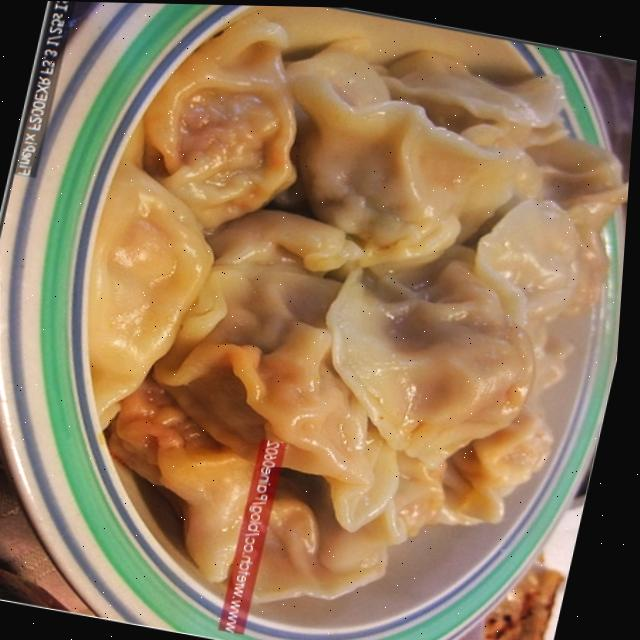带馅早点: (3, 1, 640, 634)
